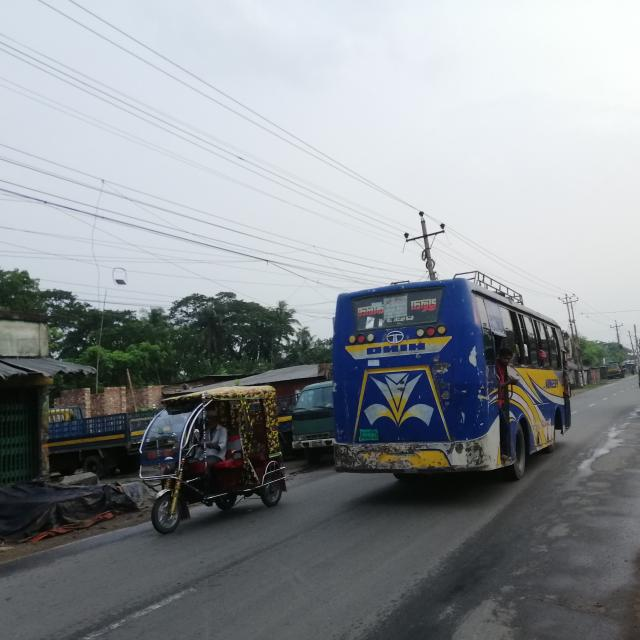Bus: (327, 267, 582, 490)
Easybike: (138, 385, 285, 536)
